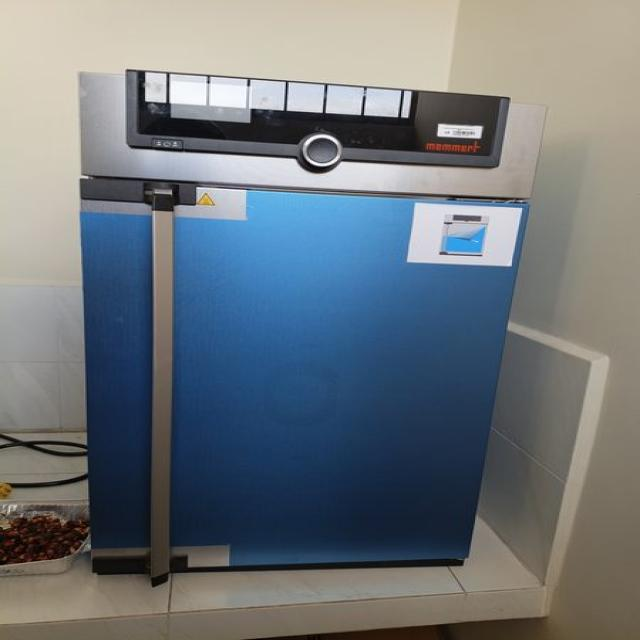Estufa - Horno Universal de Secado: (80, 69, 543, 586)
